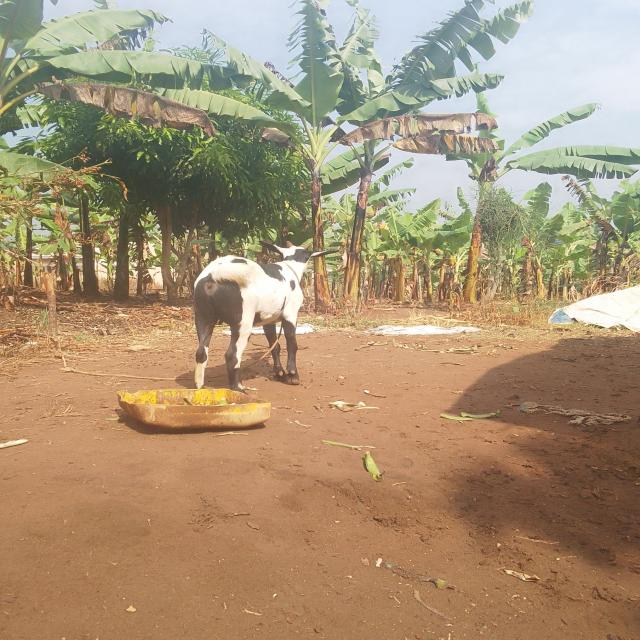goat: (139, 198, 361, 436)
